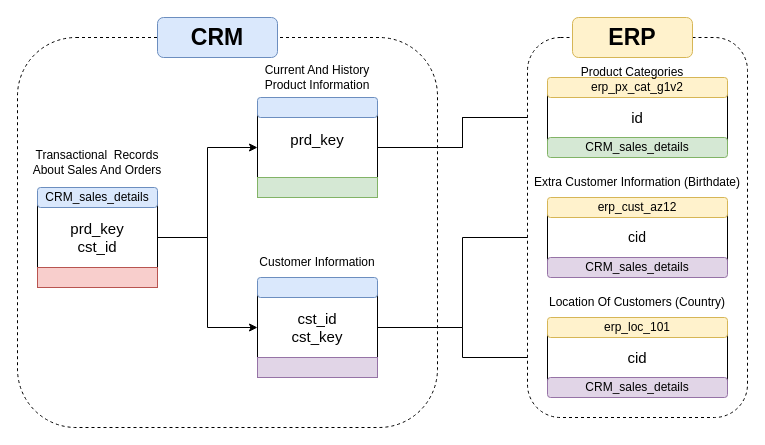
Some shapes in this 765 by 445 pixel diagram are drawn without their labels. The centre of each missing label's shape, as x and y in pixels:
"crm_cust_info" goes at pixel 317 287.
"CRM_prd_info" goes at pixel 317 107.
"CUSTOMERS" goes at pixel 317 367.
"PRODUCTS" goes at pixel 317 187.
"SALES" goes at pixel 97 277.
